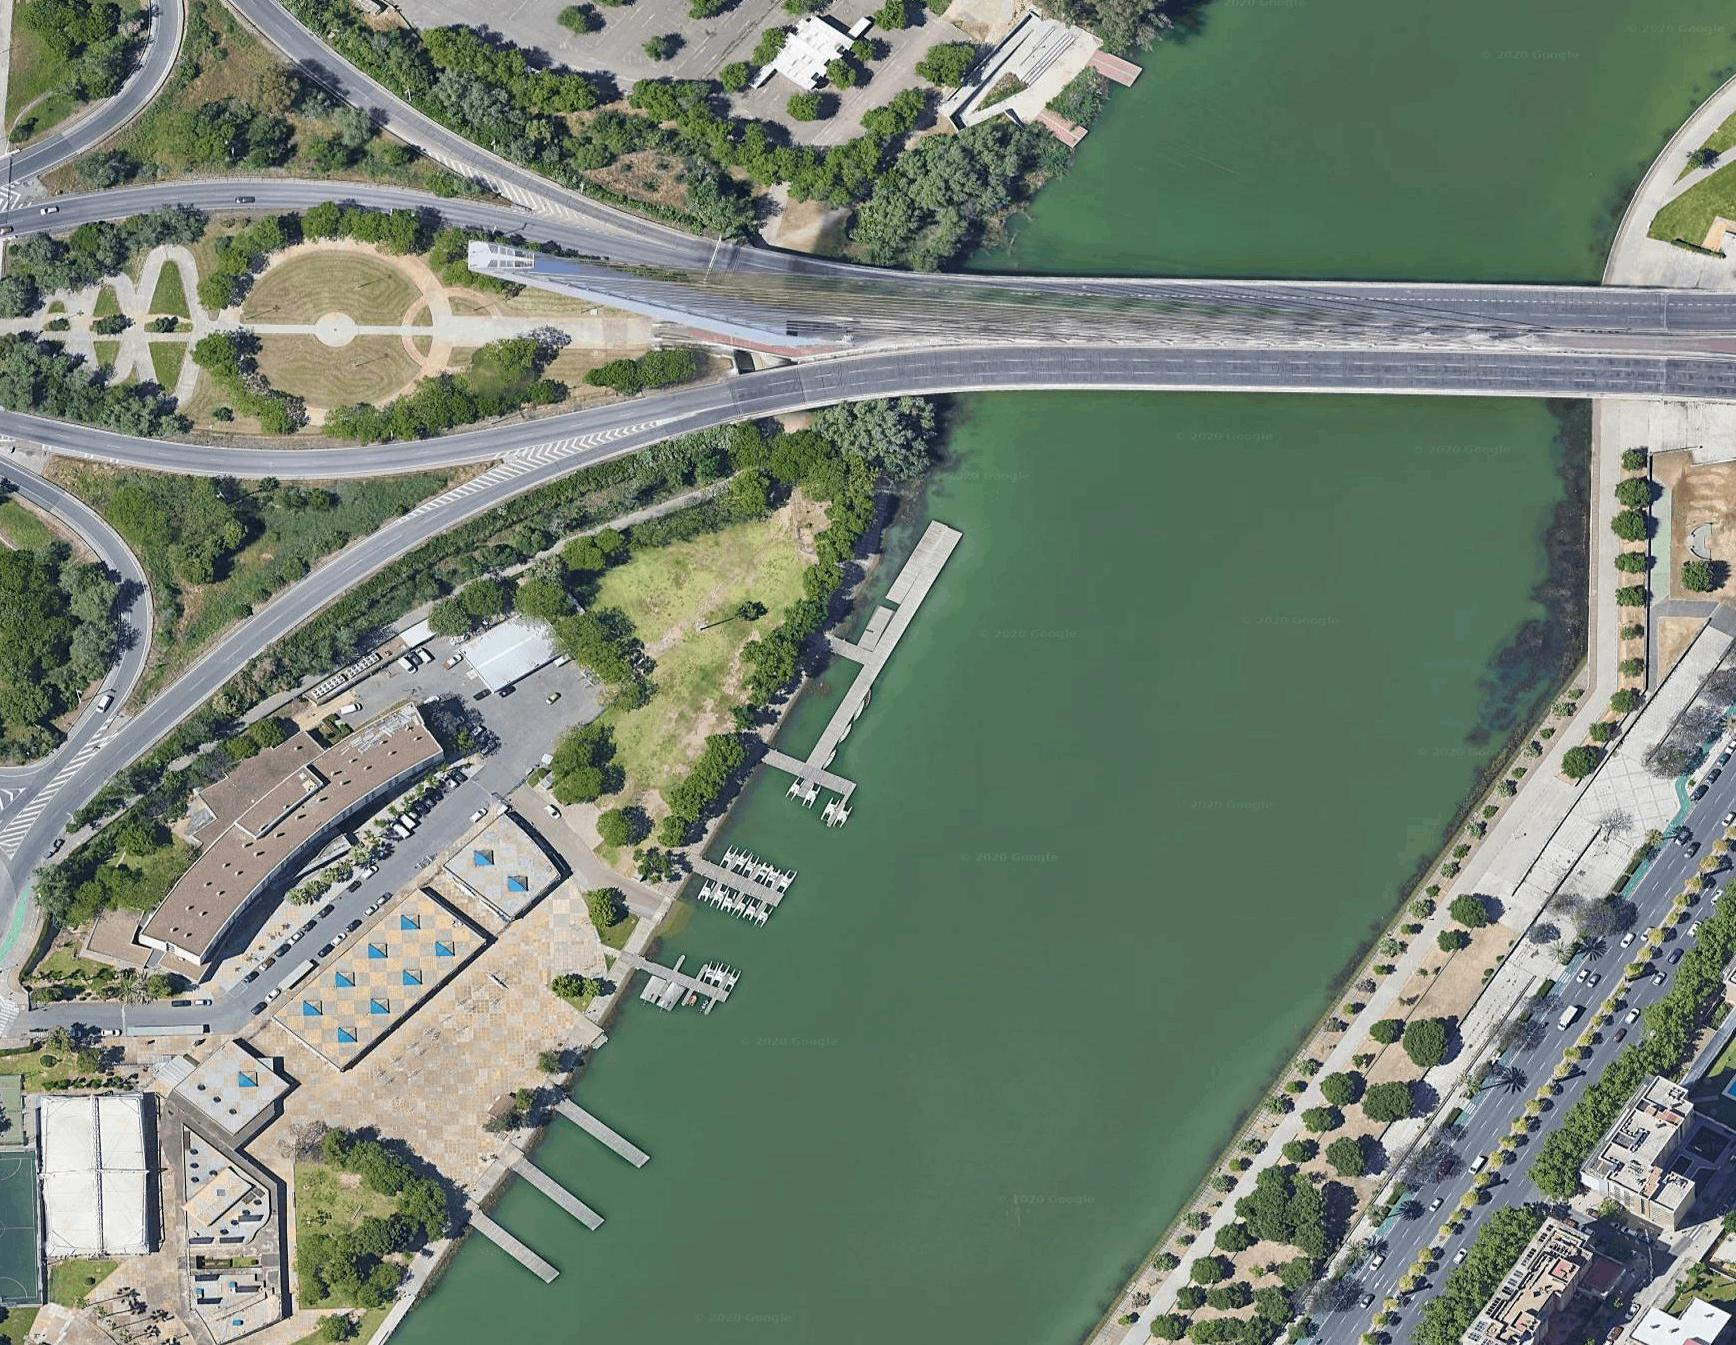bridge: (917, 232, 1704, 455)
harbor: (750, 513, 993, 813), (461, 1196, 562, 1294), (499, 1149, 604, 1241), (624, 937, 734, 1022), (547, 1089, 652, 1170), (688, 844, 793, 922)
